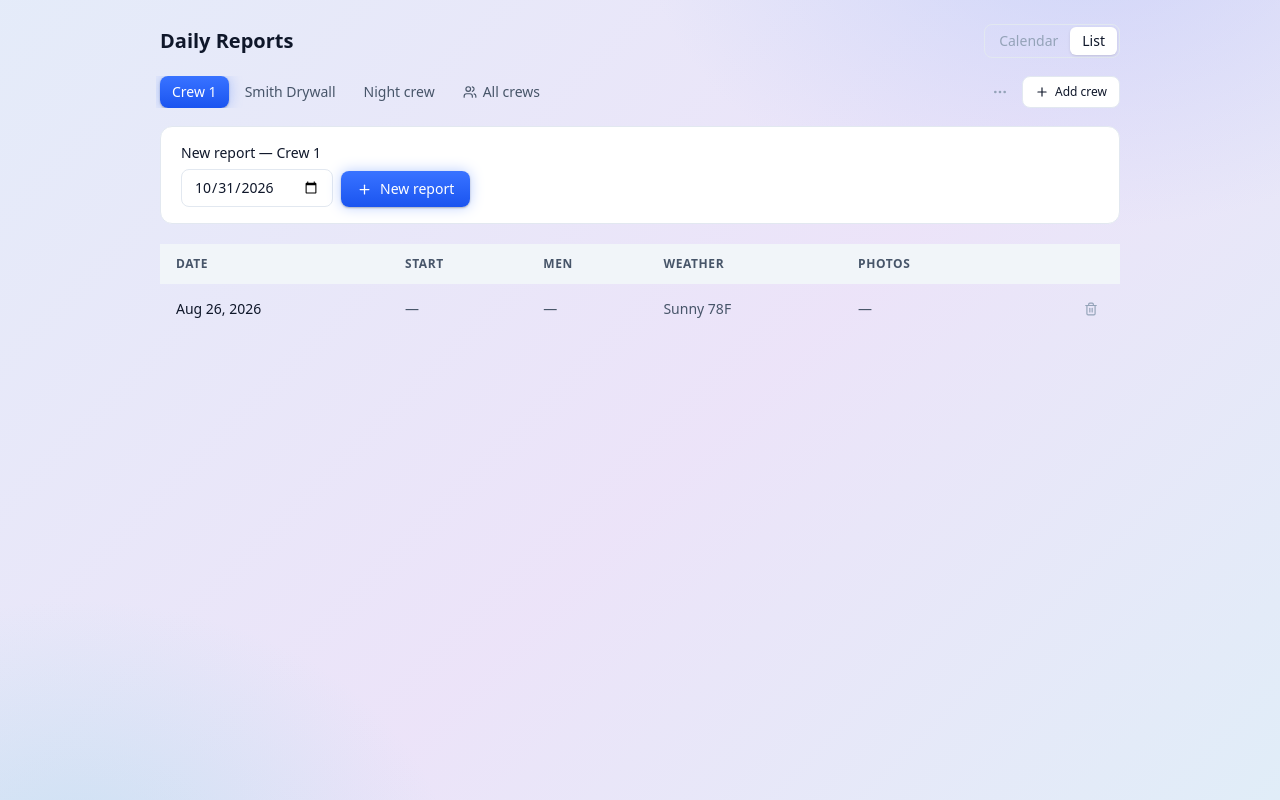
Scenario: ProjectDailyReports — crews › Add crew asks for a name, adds the crew and opens its tab
The width and height of the screenshot is (1280, 800).
Click the button "Add crew".
click(1071, 92)  # box [1022,76,1120,108]
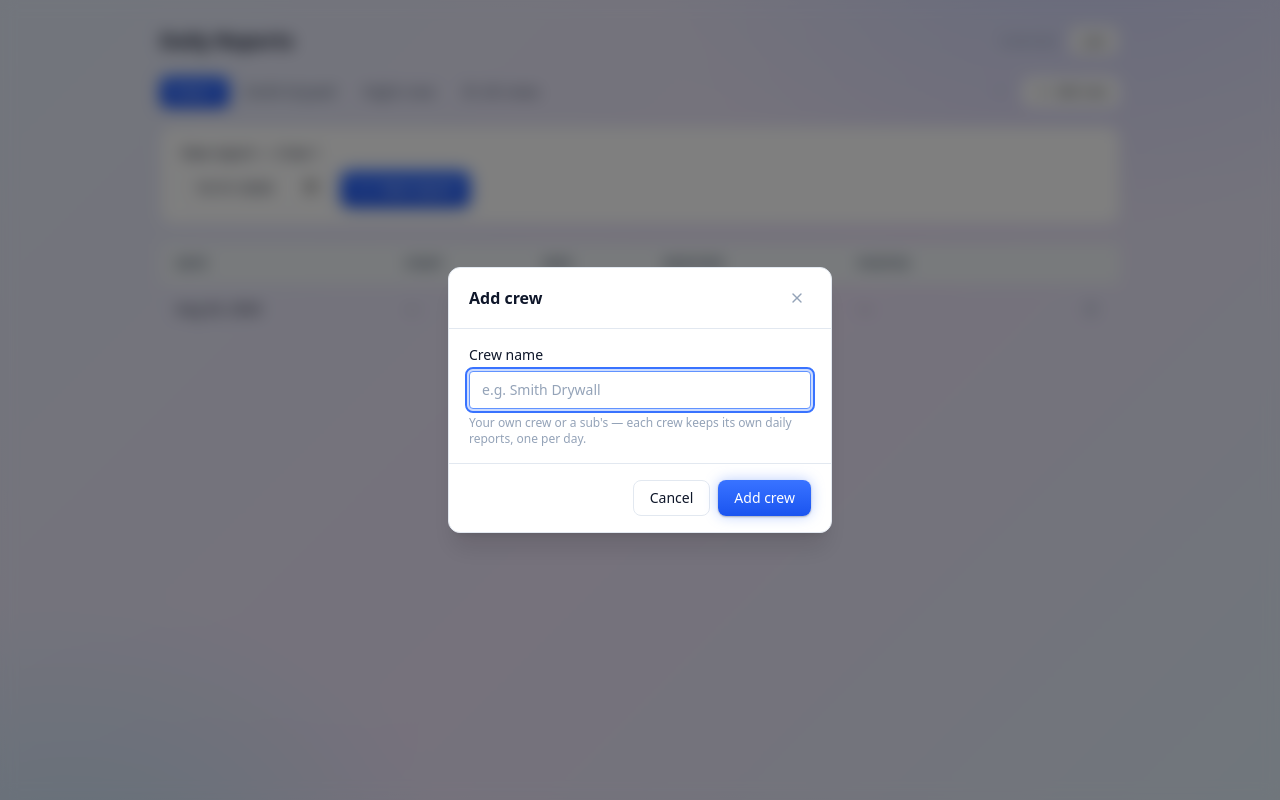
Type "  Acme Lath " into the field labelled "Crew name".
click(640, 390); type("  Acme Lath ")  # box [469,371,811,409]
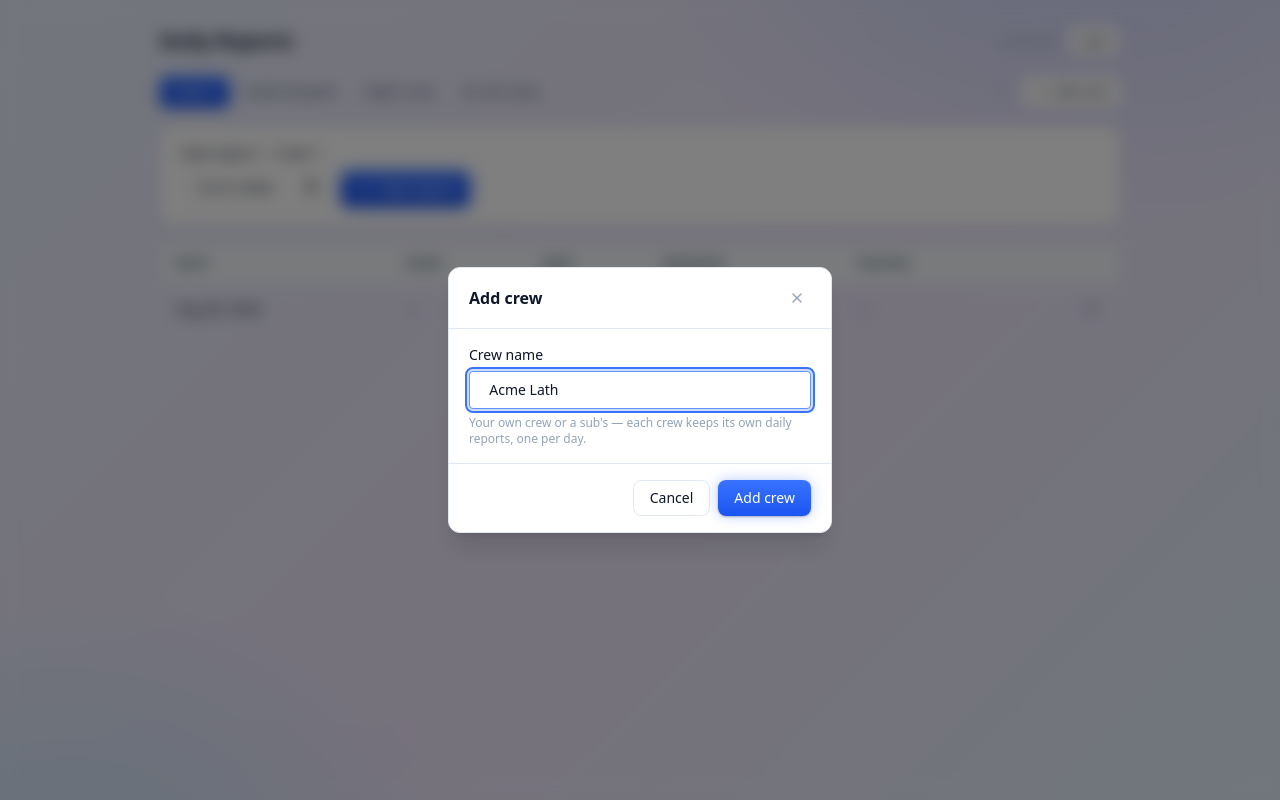
Click the button "Add crew".
click(765, 498)  # box [718,480,811,516]
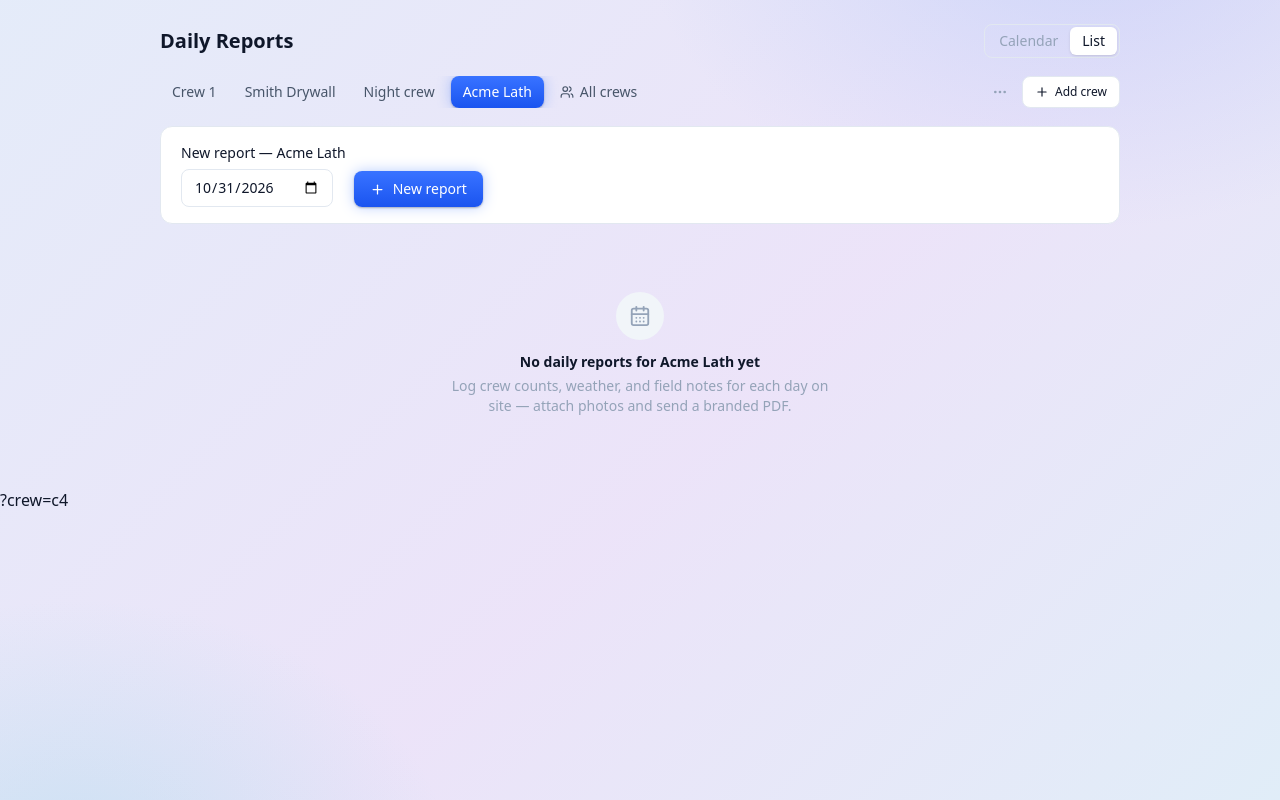
Now the dialog is gone
Now the text with test id "search" reads "?crew=c4", box [0,489,68,511]
